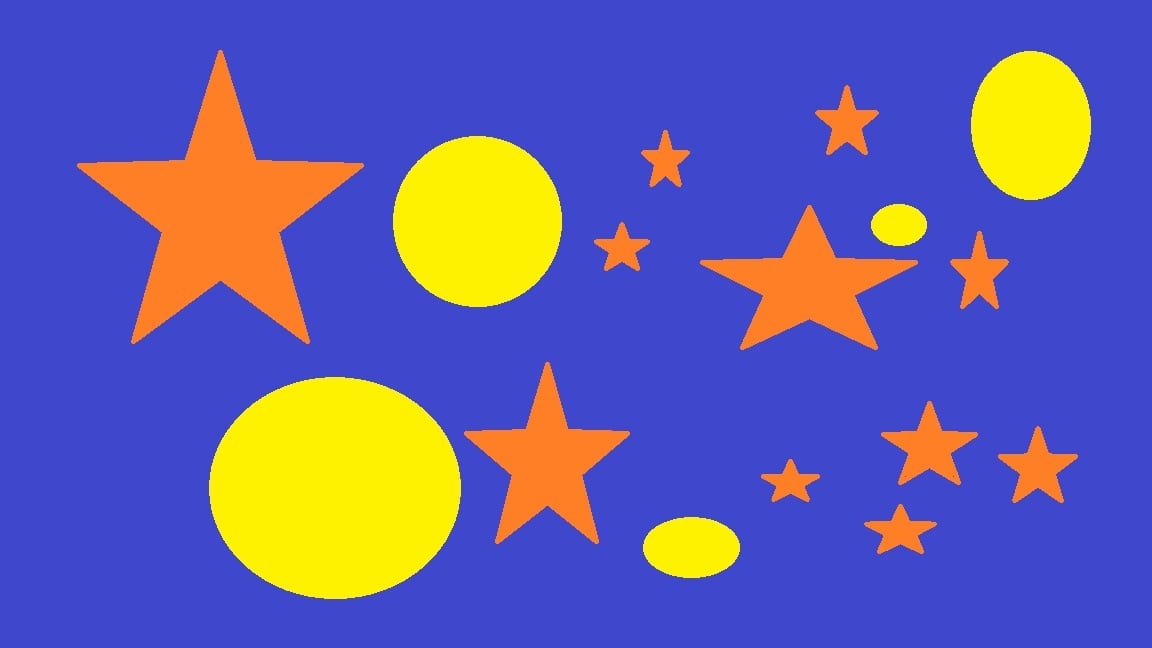Oval: (205, 376, 461, 600), (390, 132, 565, 309), (970, 46, 1092, 202), (641, 514, 743, 578), (868, 204, 932, 247)
Star: (76, 48, 359, 347), (700, 204, 920, 350), (465, 361, 630, 545), (879, 401, 979, 486), (996, 423, 1079, 507), (814, 79, 880, 156), (950, 230, 1008, 309), (867, 502, 940, 560), (754, 453, 823, 505), (591, 218, 652, 274), (636, 130, 694, 187)
